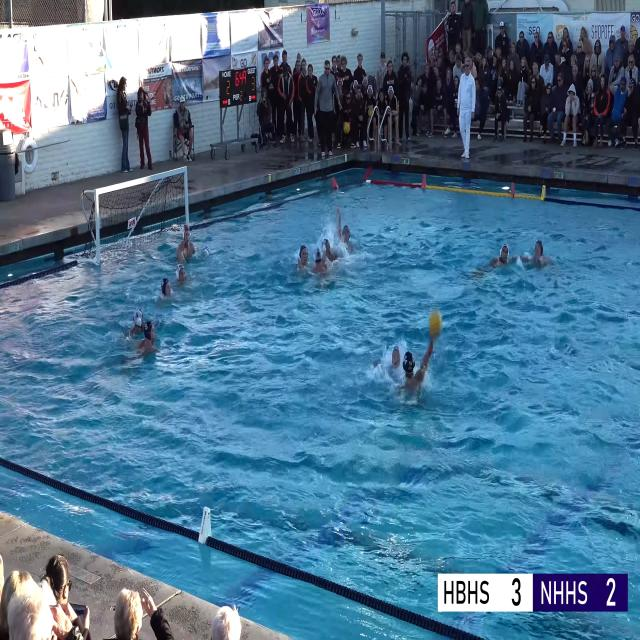ball: (428, 310, 442, 338), (343, 122, 350, 134), (368, 107, 374, 117)
